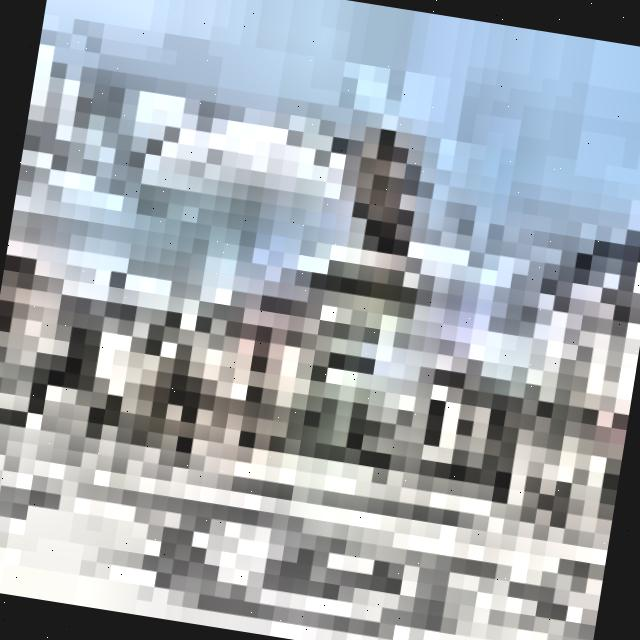alexander the great monument: (259, 98, 476, 504)
